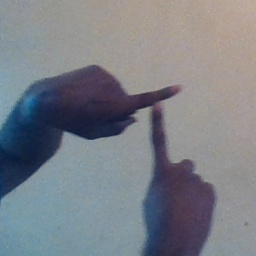T: (103, 60, 201, 184)
